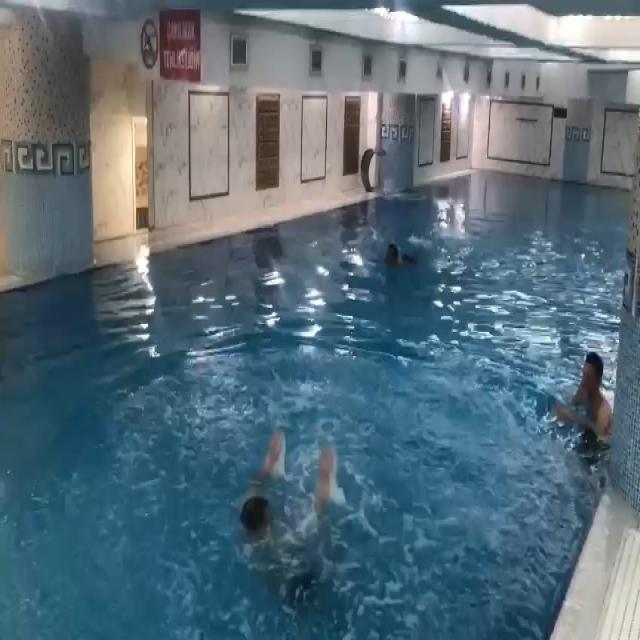Drowning: (240, 430, 335, 556)
